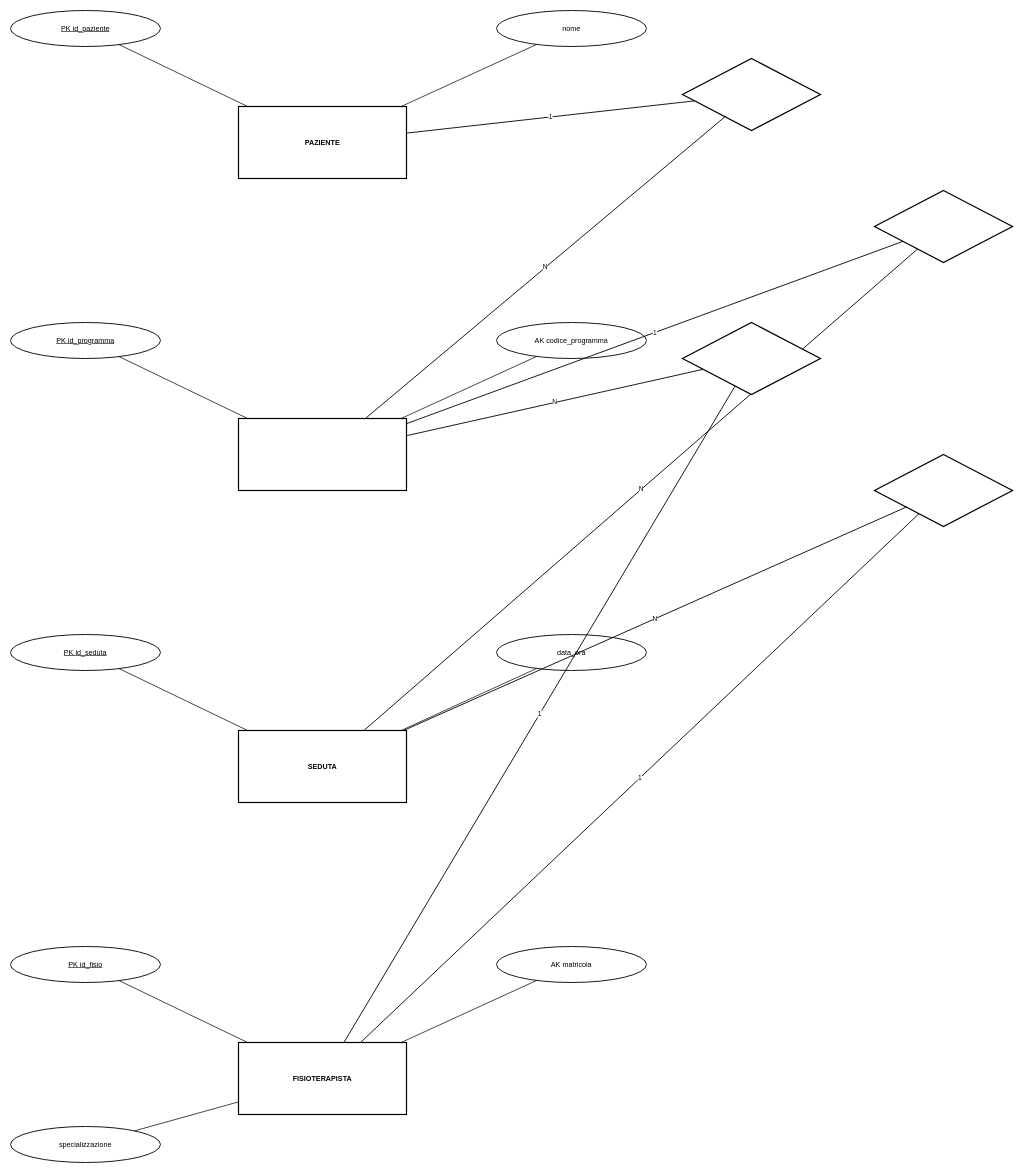
This 1024x1174 diagram has some shape labels left out. Here are the shapes that lost their labels. From the top down, the centre of each, then its label:
At (x=751, y=94): "SEGUE".
At (x=943, y=226): "INCLUDE".
At (x=751, y=358): "REFERENTE".
At (x=322, y=454): "PROGRAMMA".
At (x=943, y=490): "CONDOTTA_DA".
